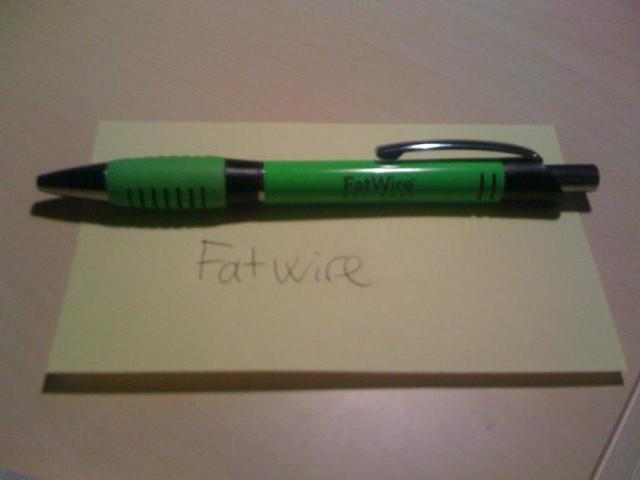PEN: (36, 127, 606, 223)
